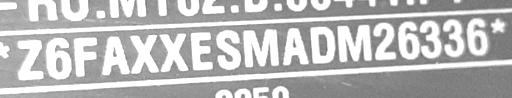letter: (242, 26, 280, 68), (334, 22, 374, 61), (128, 31, 160, 74), (157, 30, 189, 72), (44, 35, 74, 79), (15, 37, 45, 80), (100, 34, 130, 76), (213, 26, 241, 70), (307, 24, 337, 64), (280, 25, 310, 65), (187, 29, 215, 71), (72, 35, 98, 79), (462, 15, 490, 55), (441, 15, 467, 57), (418, 19, 444, 59), (372, 22, 398, 61), (396, 19, 420, 60)
